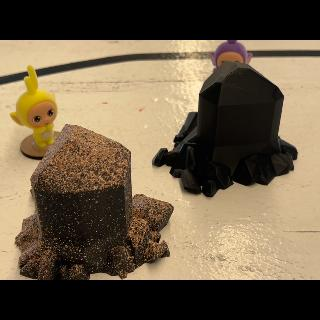teletubby: (10, 65, 58, 149), (210, 40, 252, 72)
